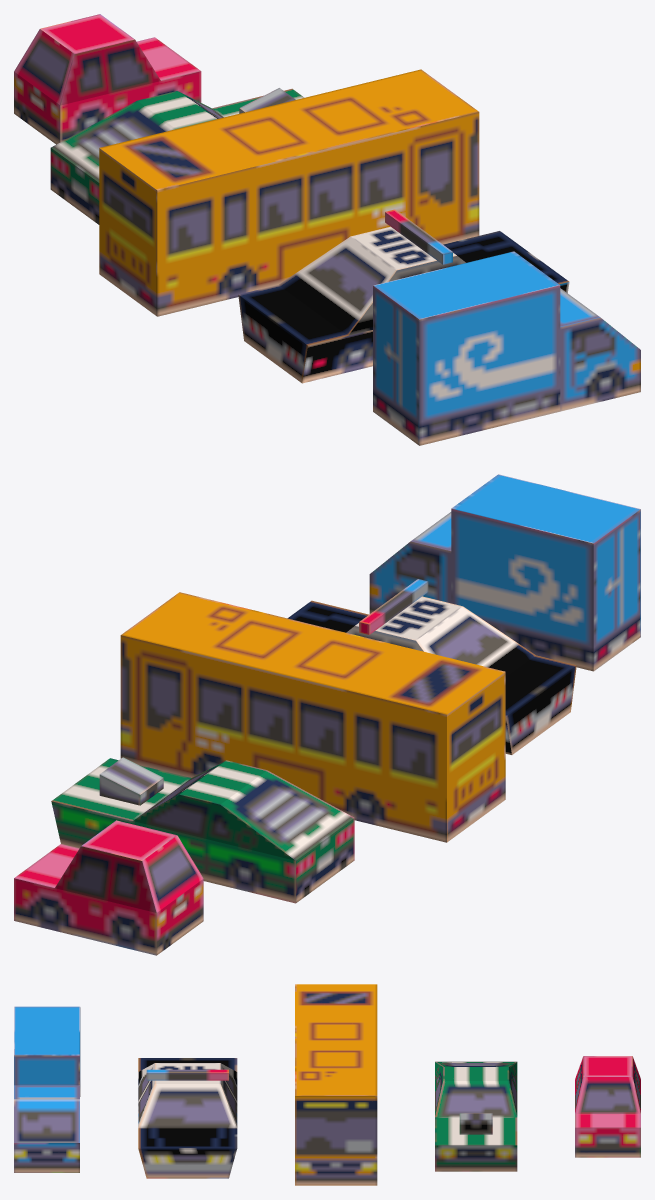
Rendered from vehicles.obj.
3 views of the same model, one above another, from view 1: azimuth 30°, elevation 25°; view 2: azimuth 150°, elevation 25°; view 3: azimuth 270°, elevation 25° (orthographic). The views are drawn at different scales.
Visible parts, largest first — view 1: vehicles; view 2: vehicles; view 3: vehicles.
Part boxes in pixels (x1=…): vehicles: x1=14, y1=14, x2=640, y2=445; vehicles: x1=14, y1=474, x2=640, y2=955; vehicles: x1=14, y1=984, x2=640, y2=1185.
Bounding box in the file's own units: 8 × 3 × 19.02.
Materials: 1 (1 with a texture image).
